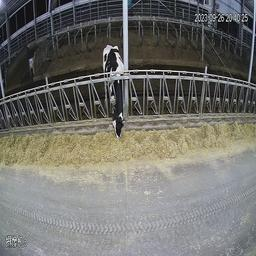cow: (99, 42, 129, 139)
